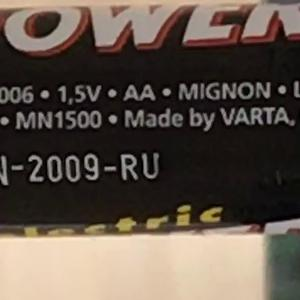keyword: (49, 76, 111, 111)
